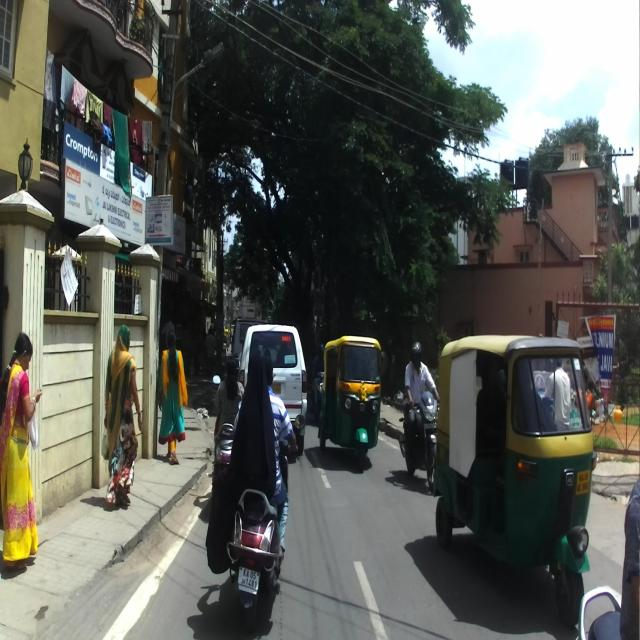Car: (238, 324, 306, 455)
autorickshaw: (432, 333, 596, 627), (317, 336, 385, 472)
motorcycle_TVS: (397, 397, 441, 491)
scooter: (229, 408, 289, 620), (211, 373, 243, 491)
